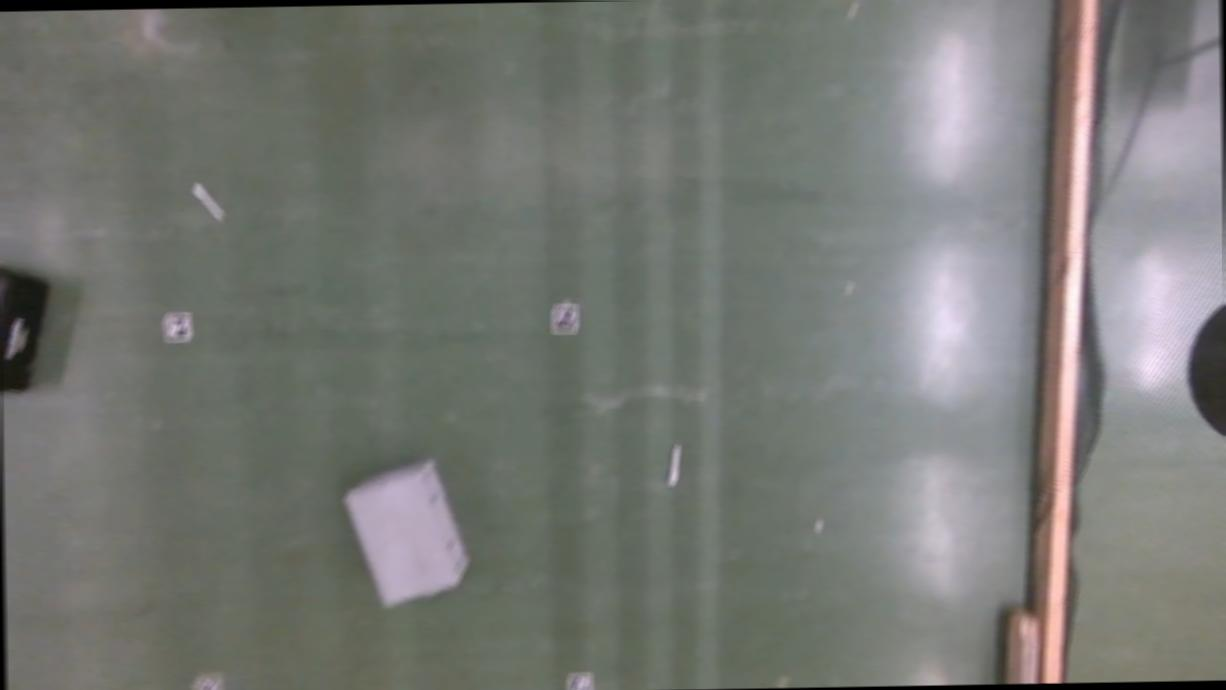probes: (193, 180, 223, 221), (670, 440, 682, 484)
rako: (344, 454, 469, 606), (0, 258, 49, 395)
